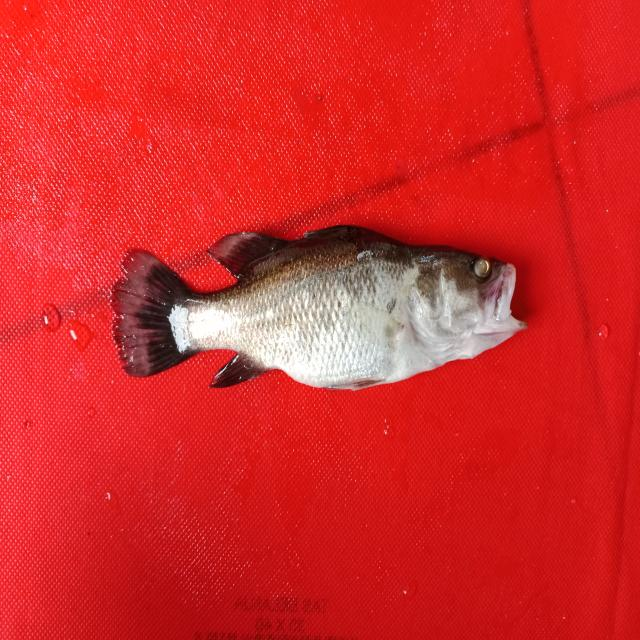ikan: (89, 174, 552, 416)
